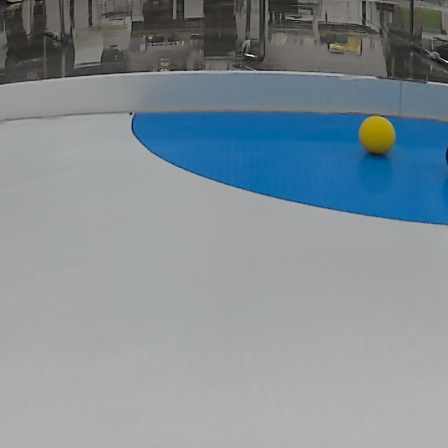blue_base: (136, 109, 448, 224)
yellow: (359, 116, 401, 157)
